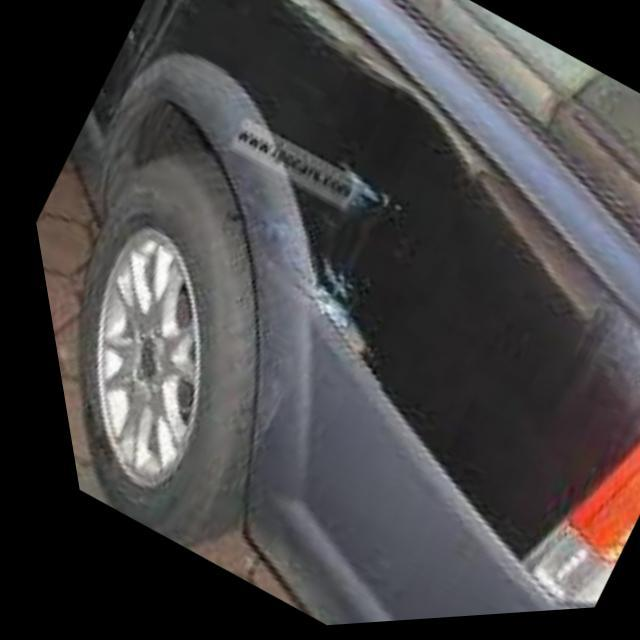dent: (234, 163, 401, 386), (102, 0, 181, 100)
